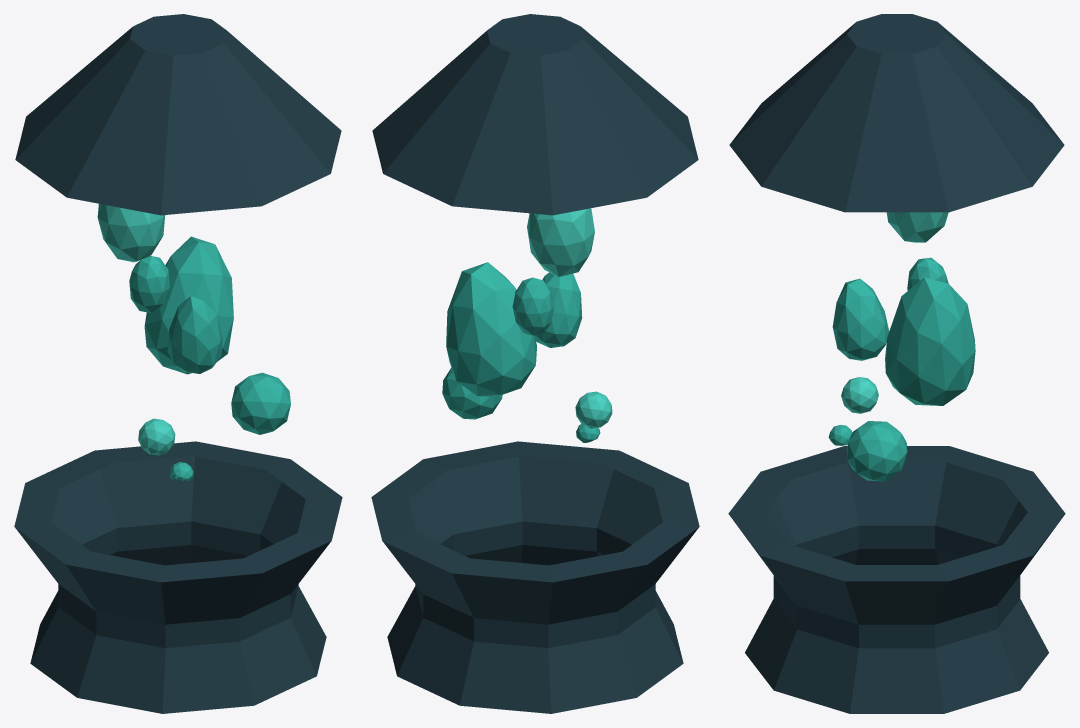
The model's file is lamp1.fbx.
The picture shows the model from 3 angles, left to right: view 1: azimuth 30°, elevation 25°; view 2: azimuth 150°, elevation 25°; view 3: azimuth 270°, elevation 25°; orthographic projection.
Visible parts, largest first — view 1: Circle.002; view 2: Circle.002; view 3: Circle.002.
Part boxes in pixels (x1,y1,x2,y2): Circle.002: [14, 14, 342, 713]; Circle.002: [371, 14, 699, 713]; Circle.002: [728, 14, 1065, 713].
Size of the model in its own units: 60.08 by 128 by 63.17.
